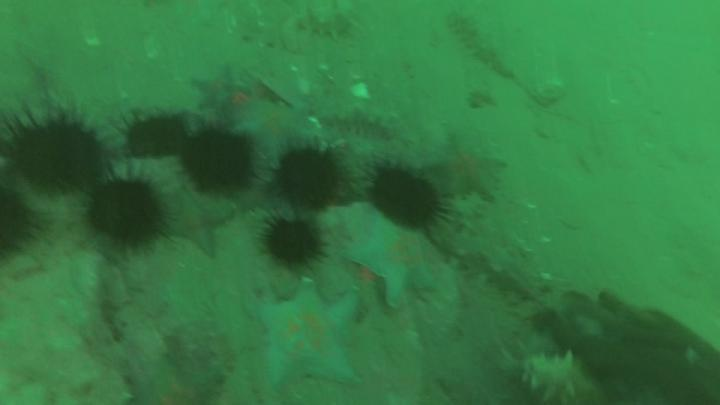echinus: (16, 125, 102, 196), (89, 179, 165, 246), (186, 132, 257, 187), (277, 150, 341, 208), (375, 169, 437, 228), (129, 114, 186, 159), (1, 188, 33, 255), (268, 220, 315, 260)
holothurian: (444, 233, 546, 303), (445, 12, 516, 76), (511, 355, 590, 405), (318, 102, 399, 142), (297, 5, 357, 42)
starfish: (248, 284, 364, 388), (349, 225, 438, 305), (426, 137, 507, 197), (128, 359, 224, 405), (237, 101, 315, 157), (168, 196, 235, 255), (194, 67, 245, 110)
